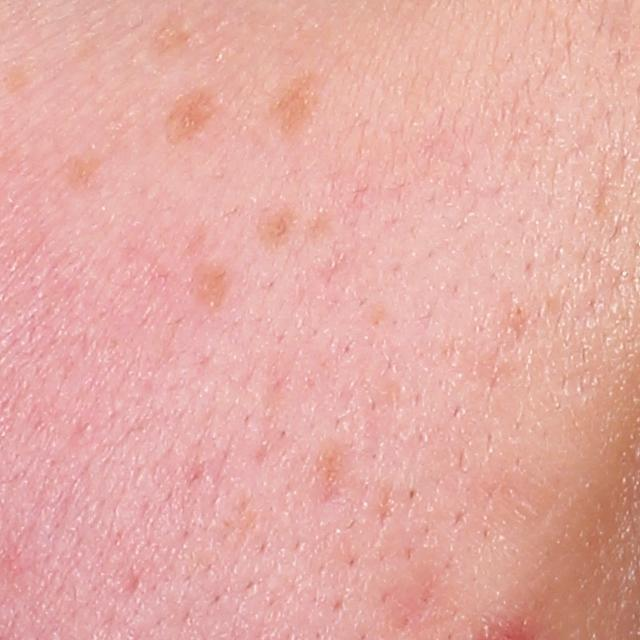melasma: (301, 438, 356, 516), (277, 67, 312, 155), (164, 95, 217, 153), (184, 265, 233, 320), (253, 196, 300, 250), (142, 2, 182, 62), (49, 157, 107, 195), (4, 75, 42, 103)
